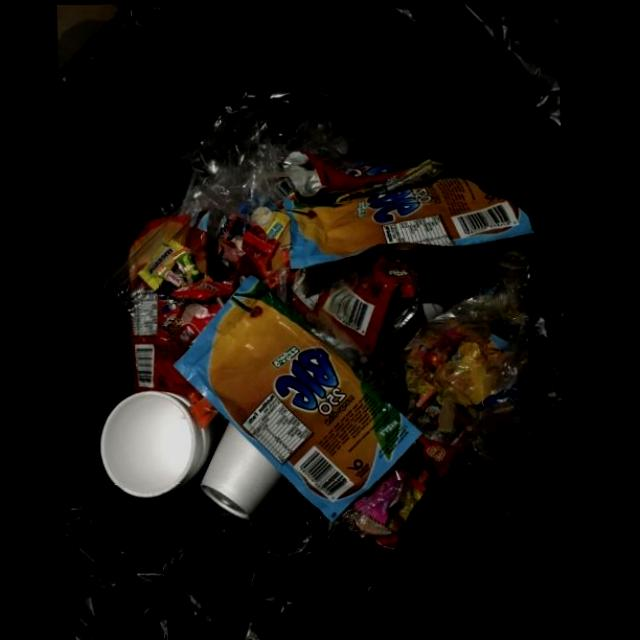bao_bi_thuc_pham: (173, 274, 422, 521), (283, 172, 531, 268), (285, 252, 421, 352), (127, 288, 195, 400), (282, 150, 417, 196), (352, 464, 408, 523), (138, 239, 183, 289), (170, 277, 233, 301), (170, 246, 203, 284)
xop: (100, 390, 209, 498), (199, 422, 281, 519)
